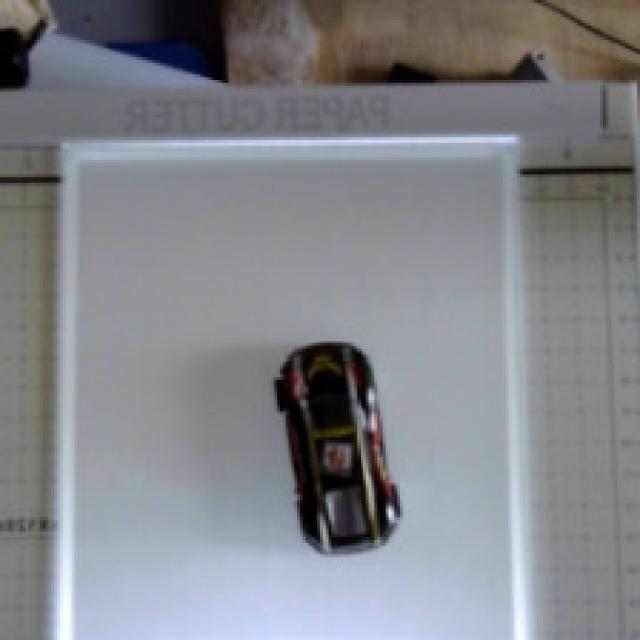Red Car: (216, 306, 443, 571)
